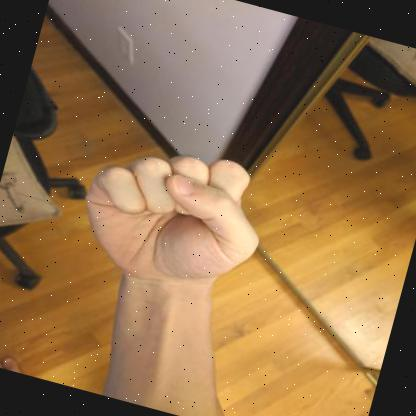S: (85, 155, 258, 300)
